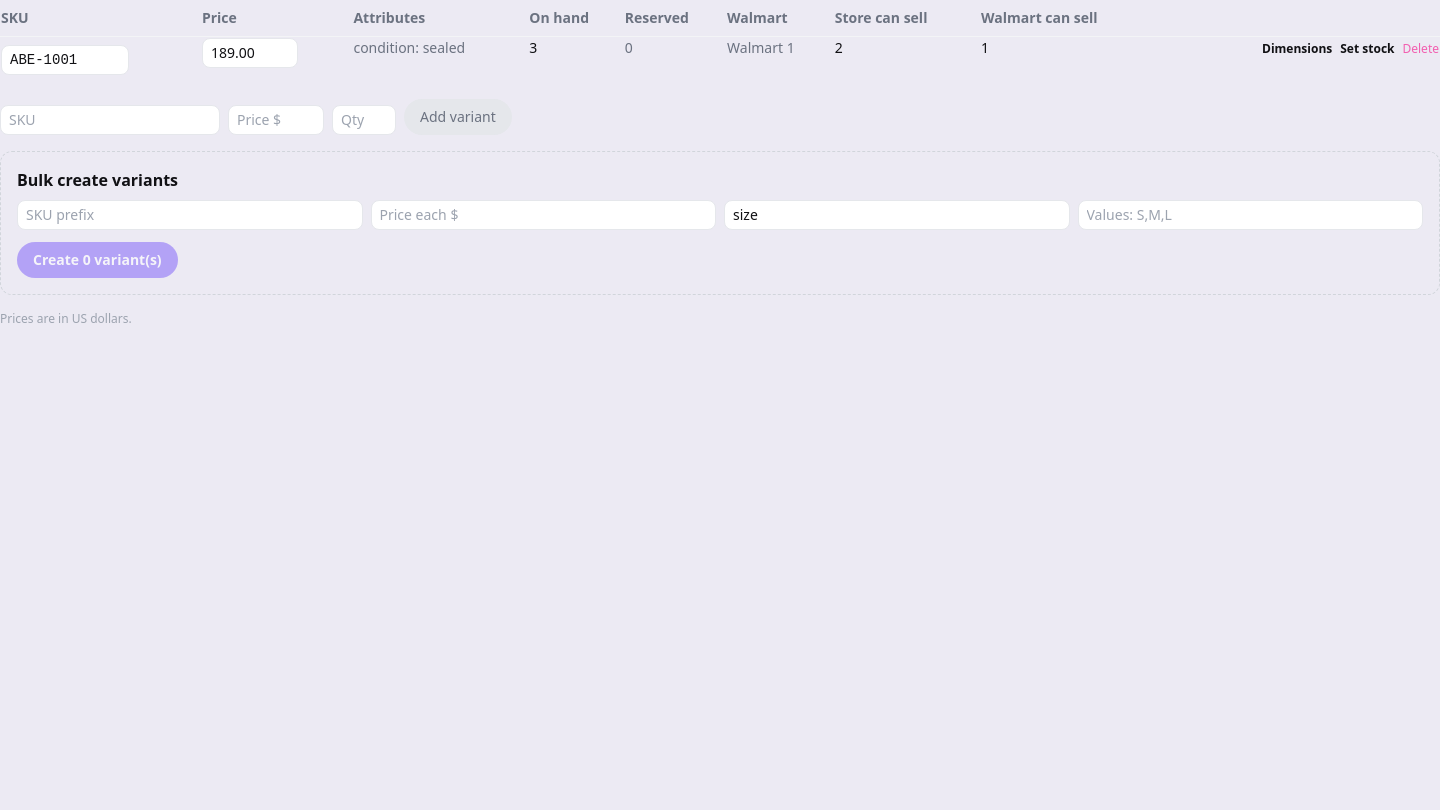
Test case: VariantsTab › warns about double sales when choosing shared, and previews both channels selling everything
This screenshot has width=1440, height=810.
What coordinates should you click on to do the following:
click the button "Set stock"
I would click on:
 (1367, 49)
Its box is [1340,41,1395,57].
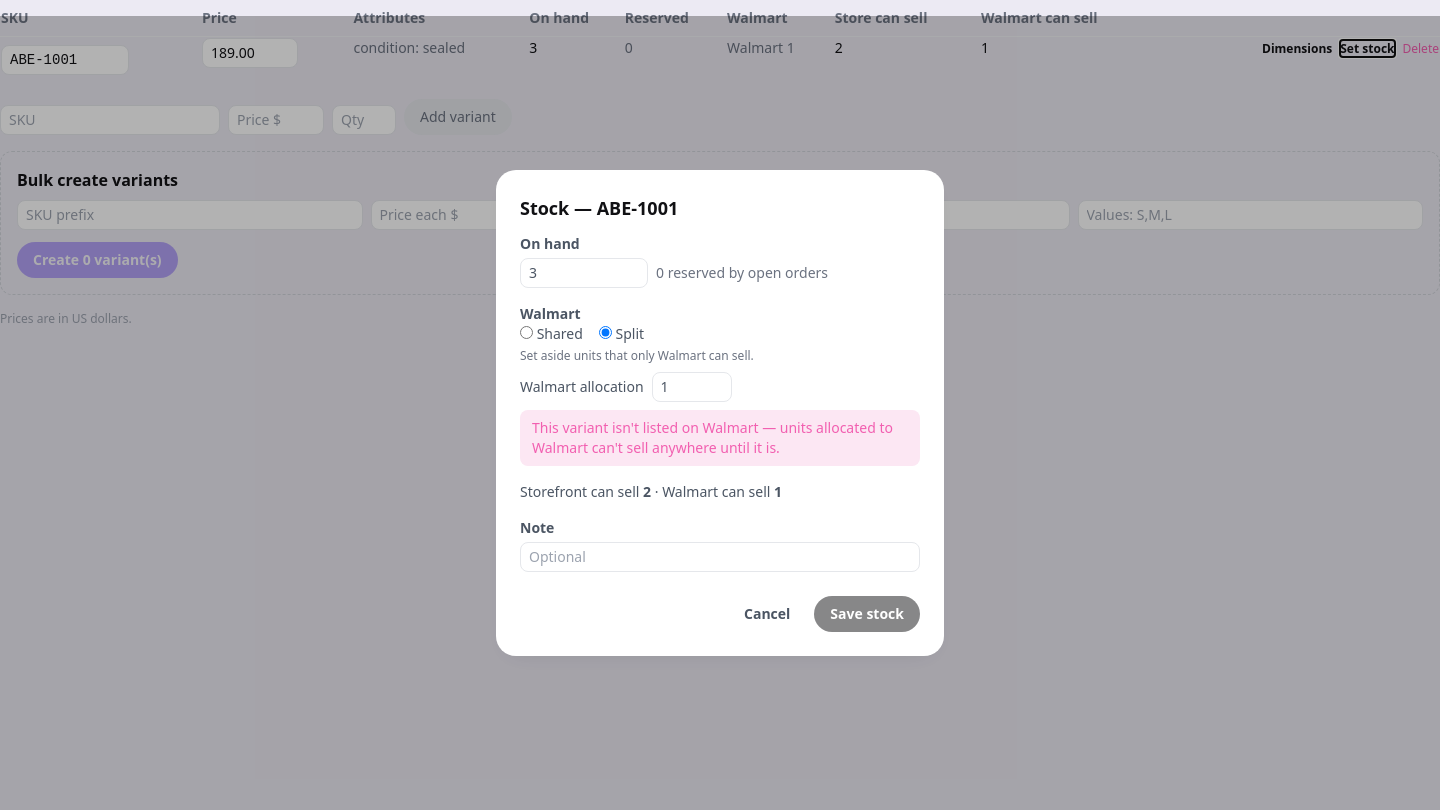
What coordinates should you click on to do the following:
click the radio button labelled "Shared"
I would click on:
 (526, 332)
Its box is [520,326,533,339].
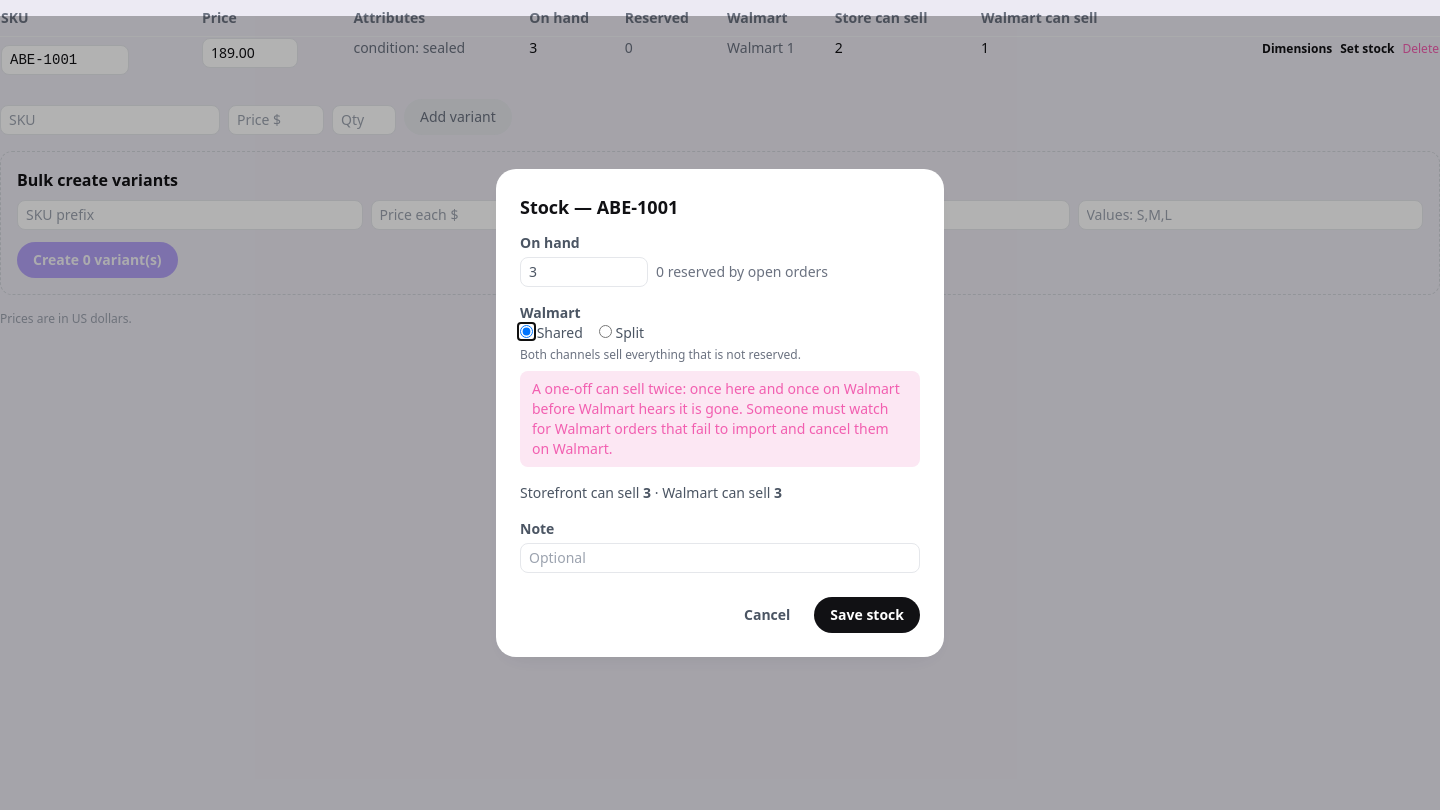
Check: the text "can sell twice" is shown, box [532,379,900,458]
